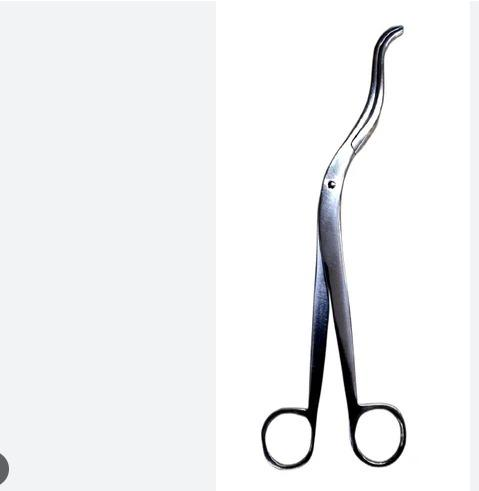Cheatle Forceps: (251, 9, 419, 468)
